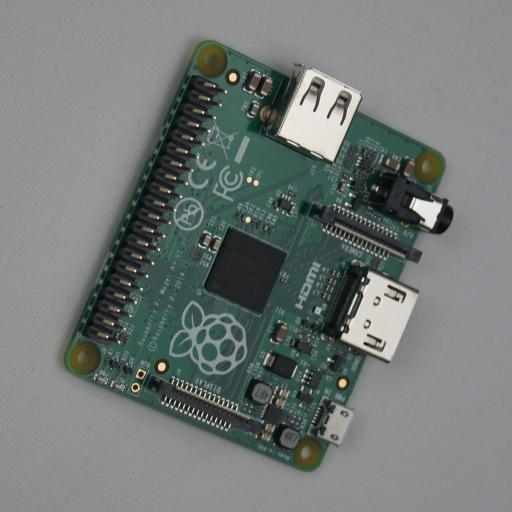Raspberry Pi A-: (61, 40, 453, 472)
